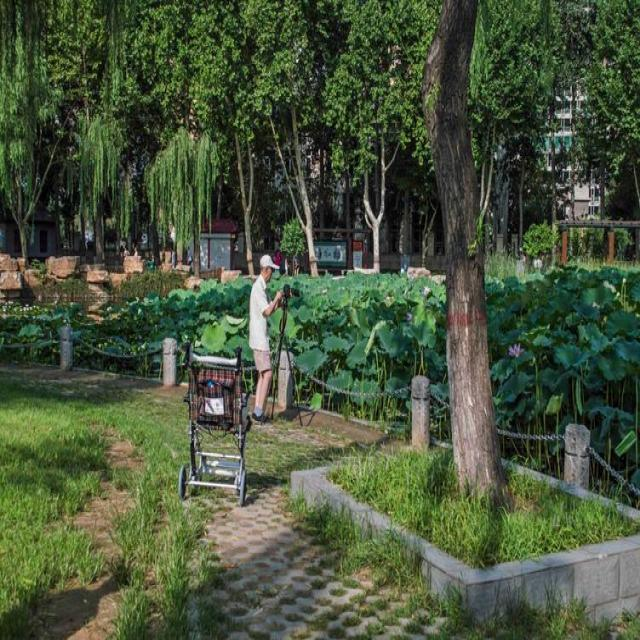wheelchairs: (172, 332, 260, 513)
